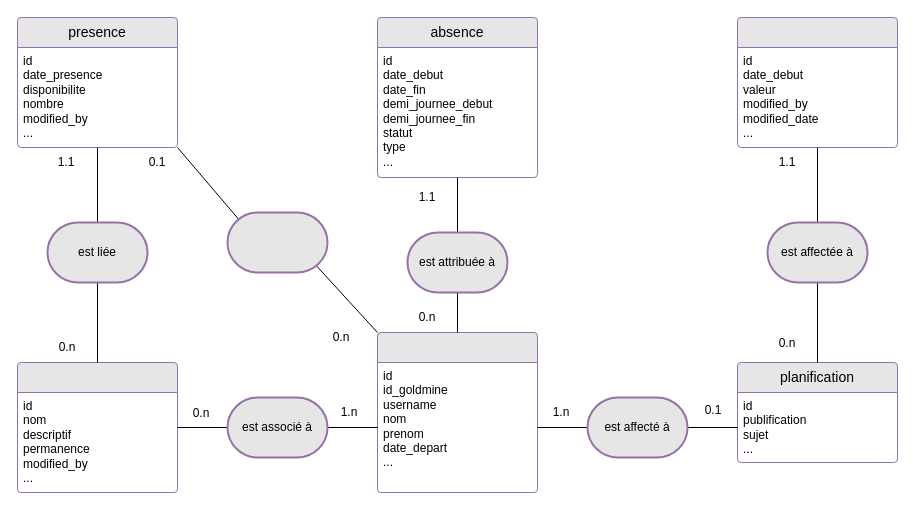
Image size: 915x510. Some labels were removed from this diagram. Each missing label, with the box of its shape:
charge: (736, 16, 898, 148)
equipe: (16, 362, 178, 492)
est assigné: (226, 211, 328, 273)
intervenant: (376, 332, 538, 492)
